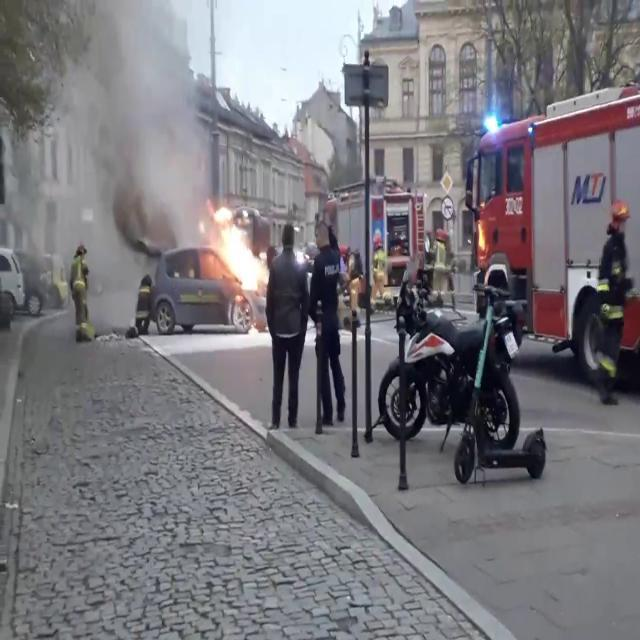Fire: (204, 192, 268, 306)
Smoke: (10, 0, 214, 278)
